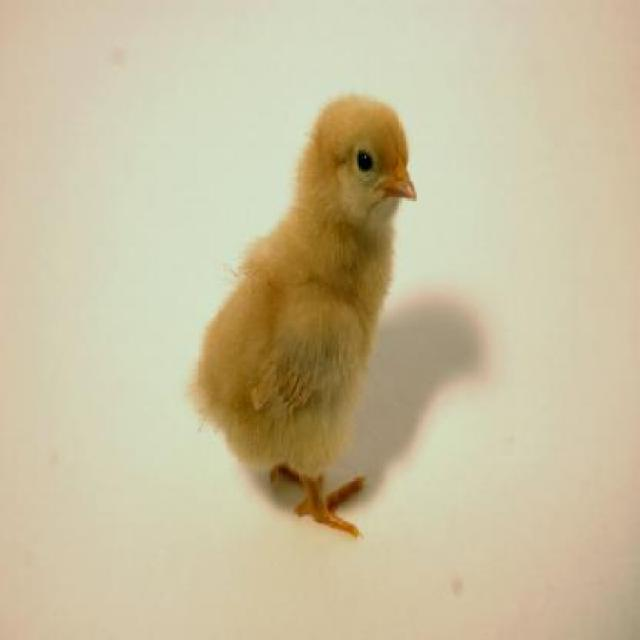poussin: (174, 92, 422, 542)
